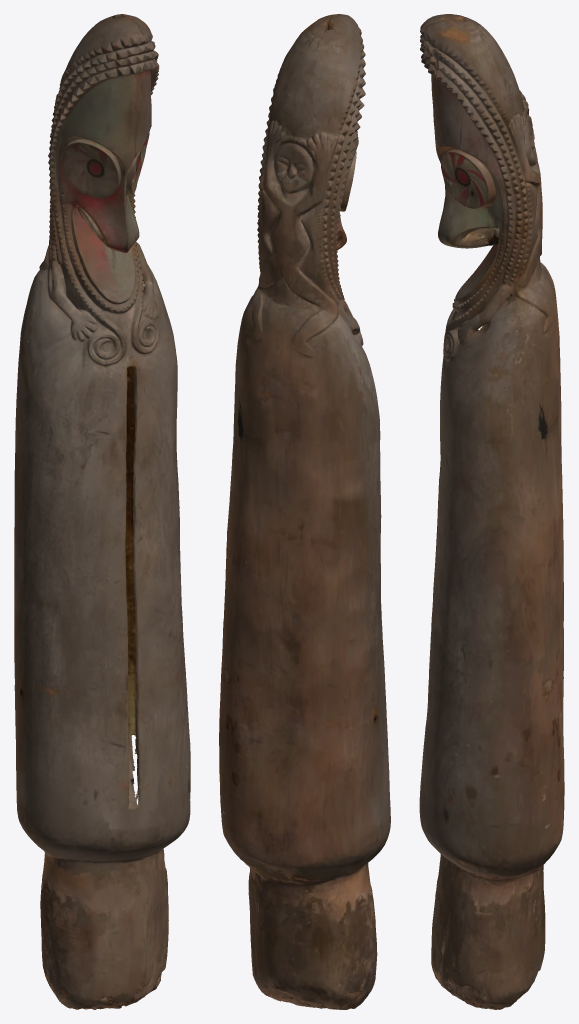
Rendered from preview.glb.
The picture shows the model from 3 angles, left to right: view 1: azimuth 30°, elevation 25°; view 2: azimuth 150°, elevation 25°; view 3: azimuth 270°, elevation 25°; orthographic projection. The views are drawn at different scales.
Visible parts, largest first — view 1: _975_93_SlitGong_n3d; view 2: _975_93_SlitGong_n3d; view 3: _975_93_SlitGong_n3d.
Boxes of the visible parts, x1=… form: _975_93_SlitGong_n3d: x1=14, y1=14, x2=190, y2=1009; _975_93_SlitGong_n3d: x1=219, y1=14, x2=390, y2=1009; _975_93_SlitGong_n3d: x1=419, y1=14, x2=564, y2=1009.
Size of the model in its own units: 0.73 by 4.47 by 0.6023.
1 material, 1 textured.
